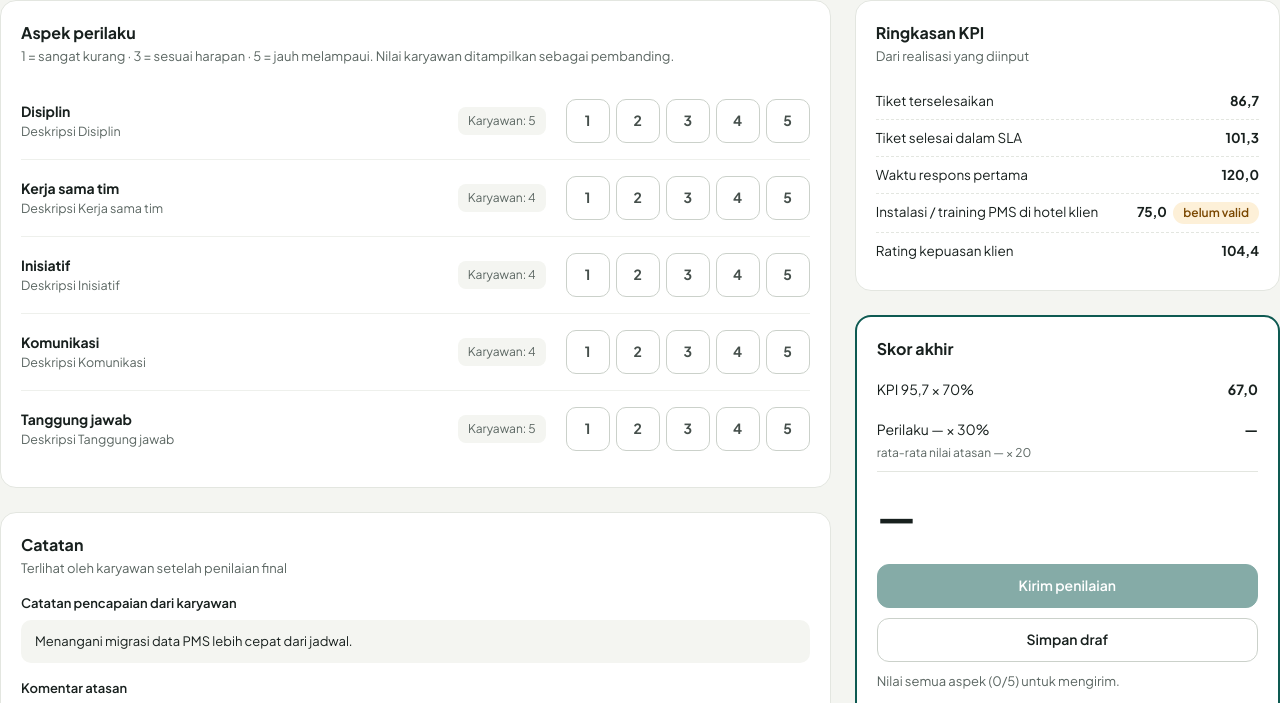
Test: AppraisalForm (H-07) — mode atasan › predikat berubah mengikuti nilai (semua 3 → perilaku 60 → skor 85,0 Baik)
This screenshot has width=1280, height=703.
Step 1. Click the radio button labelled "3" in the row of "Deskripsi Disiplin" → click(688, 120), box [666,98,710,142]
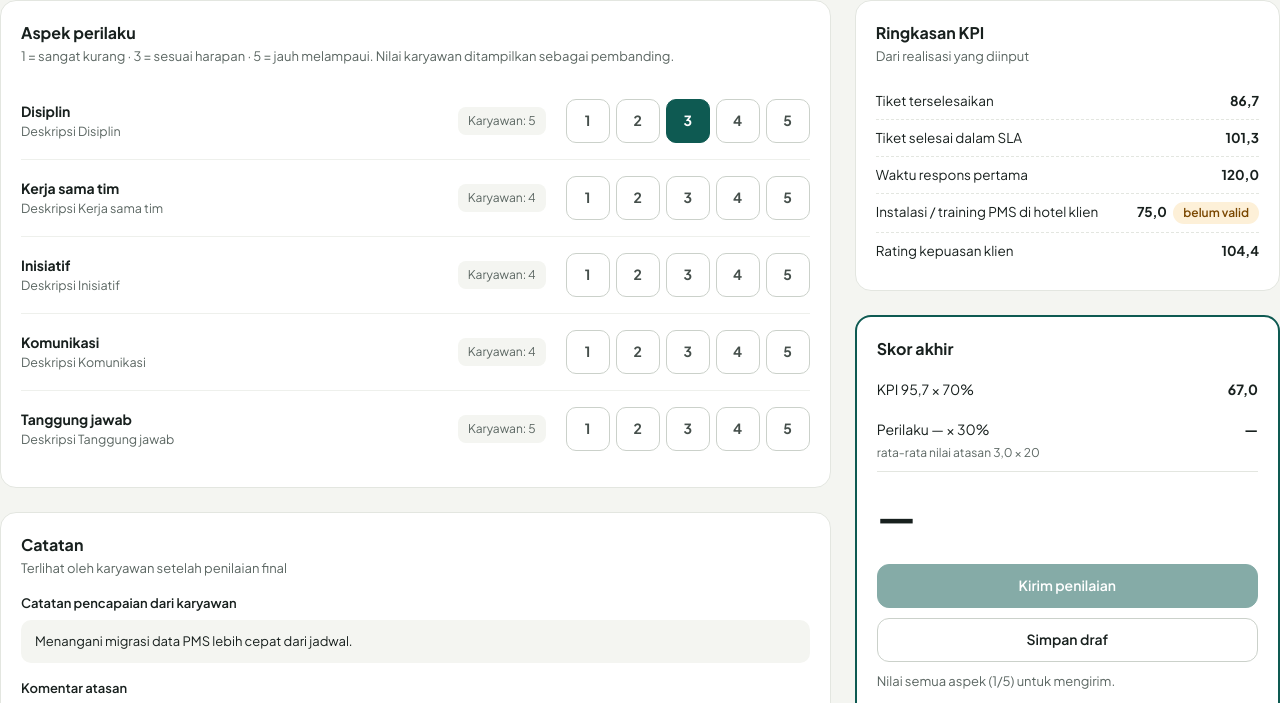
Step 2. Click the radio button labelled "3" in the row of "Deskripsi Kerja sama tim" → click(688, 198), box [666,176,710,220]
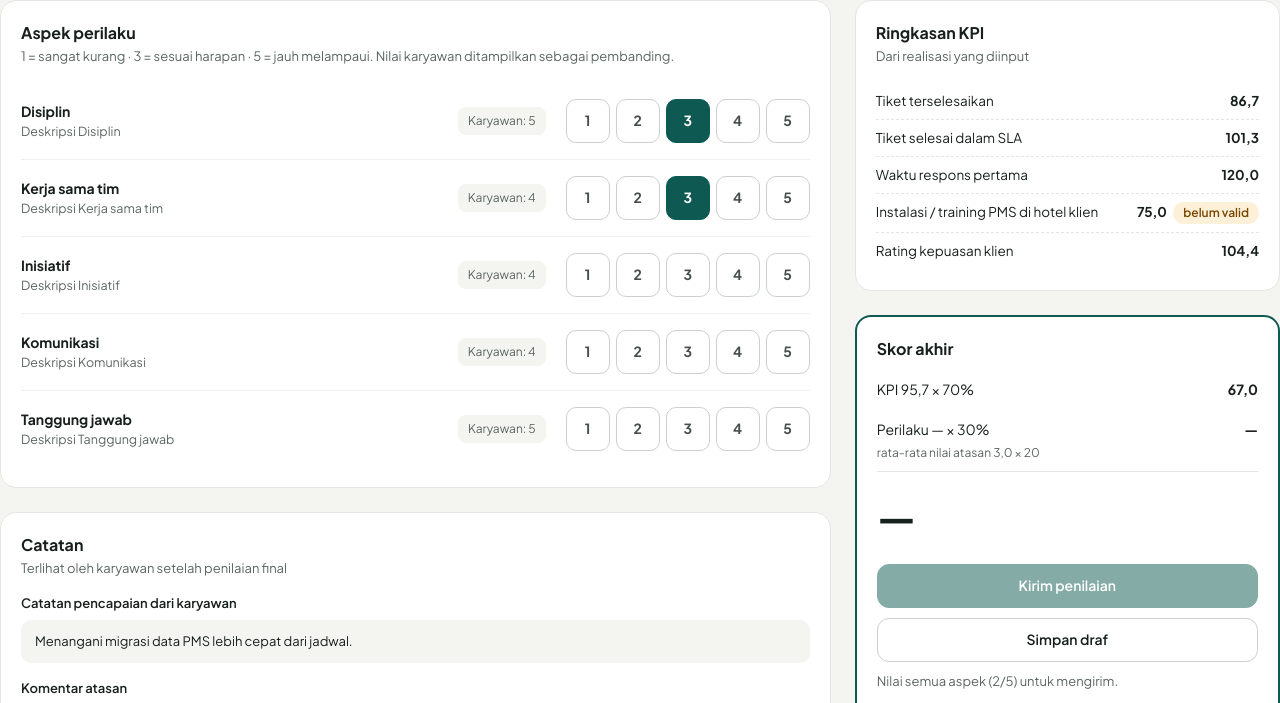
Step 3. Click the radio button labelled "3" in the row of "Deskripsi Inisiatif" → click(688, 274), box [666,252,710,296]
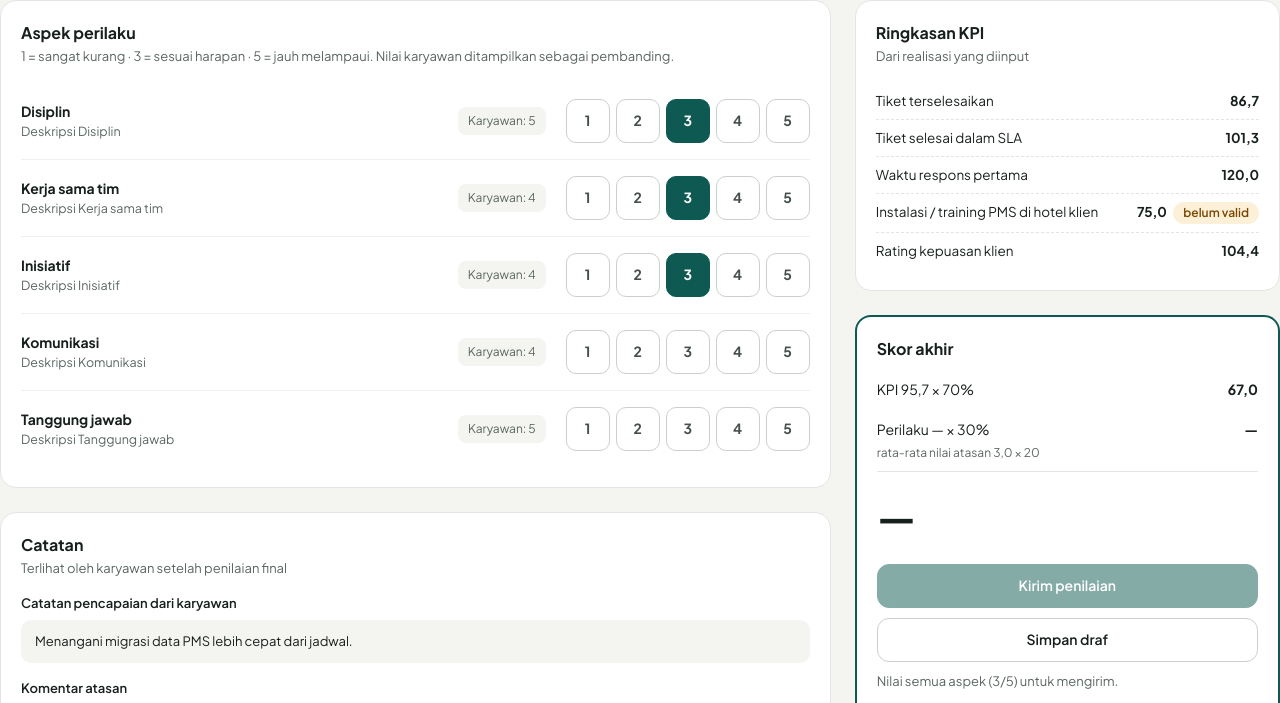
Step 4. Click the radio button labelled "3" in the row of "Deskripsi Komunikasi" → click(688, 352), box [666,330,710,374]
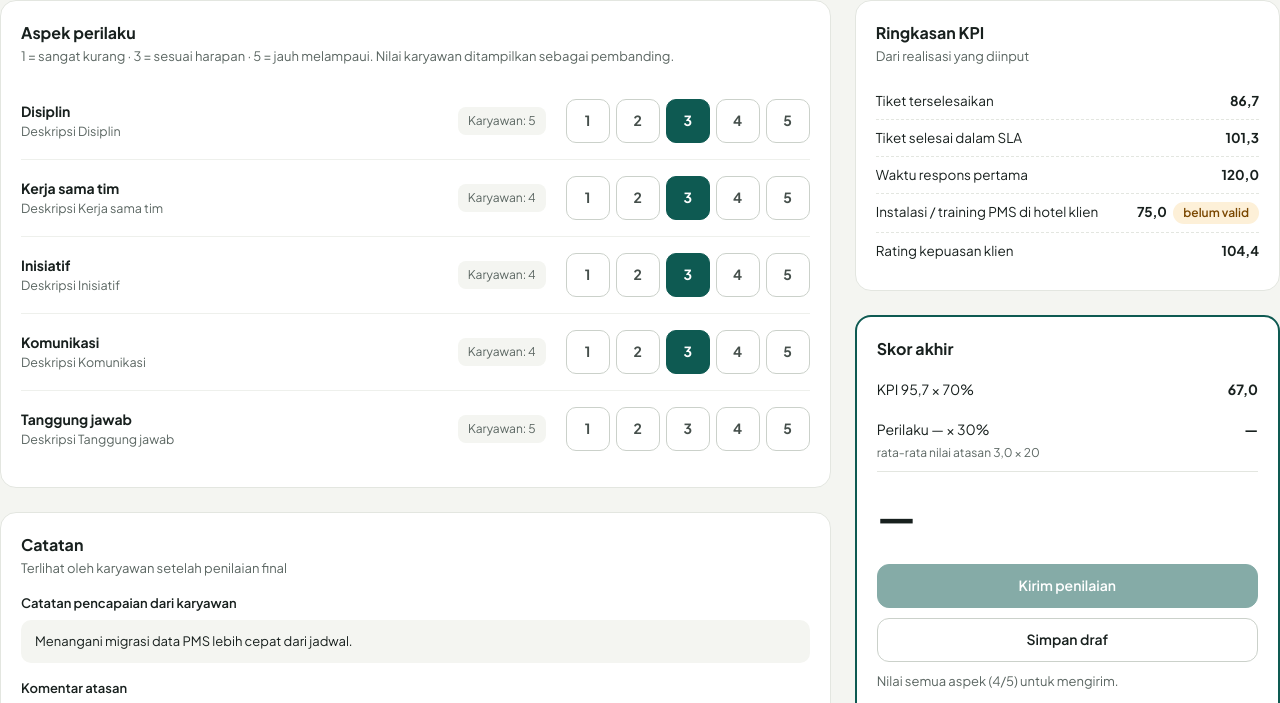
Step 5. Click the radio button labelled "3" in the row of "Deskripsi Tanggung jawab" → click(688, 428), box [666,406,710,450]
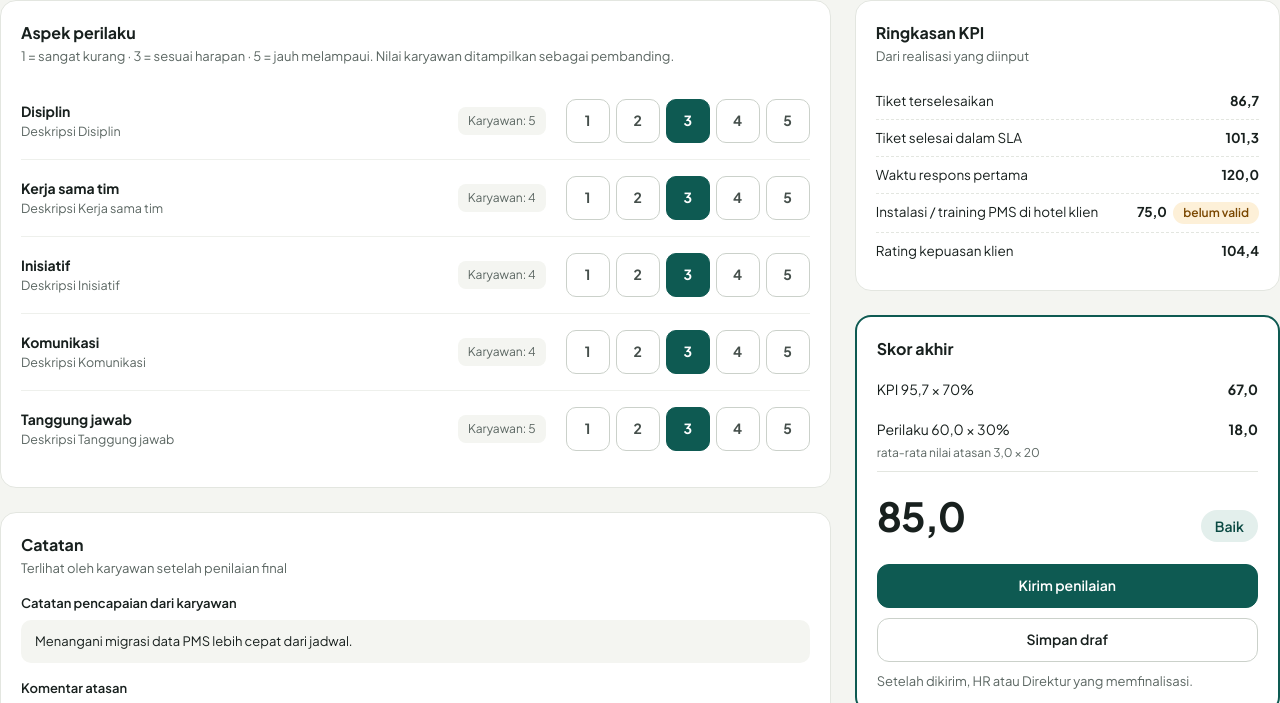
Expected: the text with test id "final-score" reads "85,0", [877,490,965,540]
Expected: the text with test id "grade" reads "Baik", [1215,516,1244,534]
